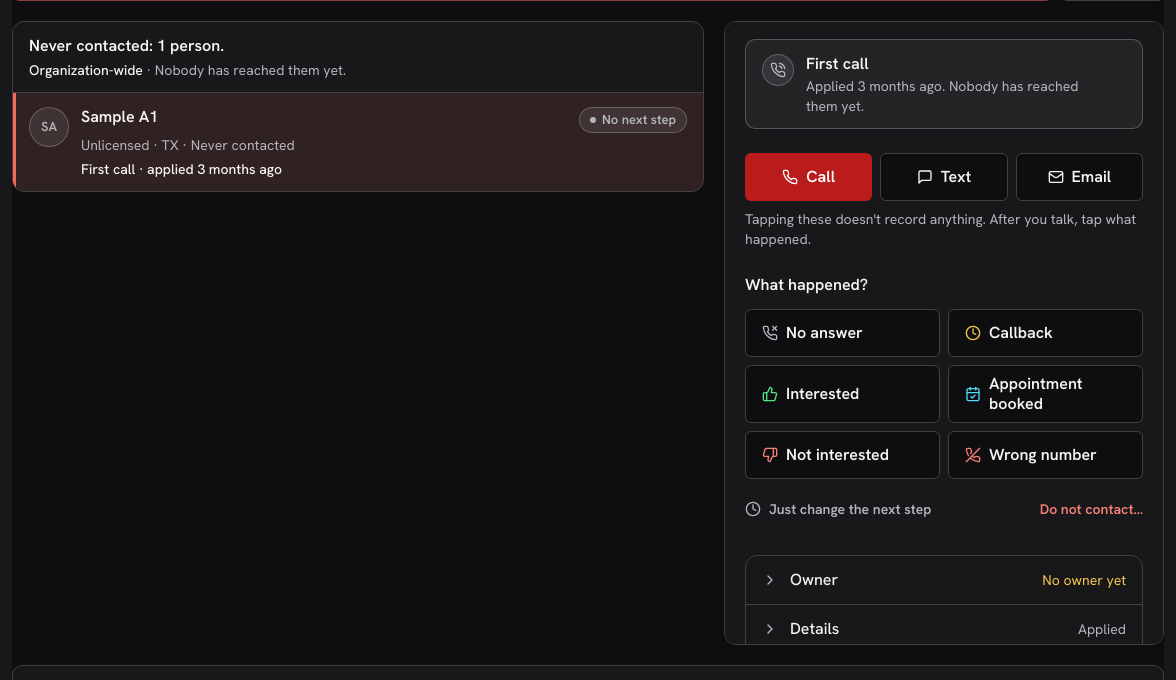
Test: RecruitingWorklist › the quick pick whose time fills the field wears the gold tint; typing a time by hand clears it
The image size is (1176, 680).
(page scrolled)
Click the button "No answer" at (842, 333), box [745,309,940,357]
(page scrolled)
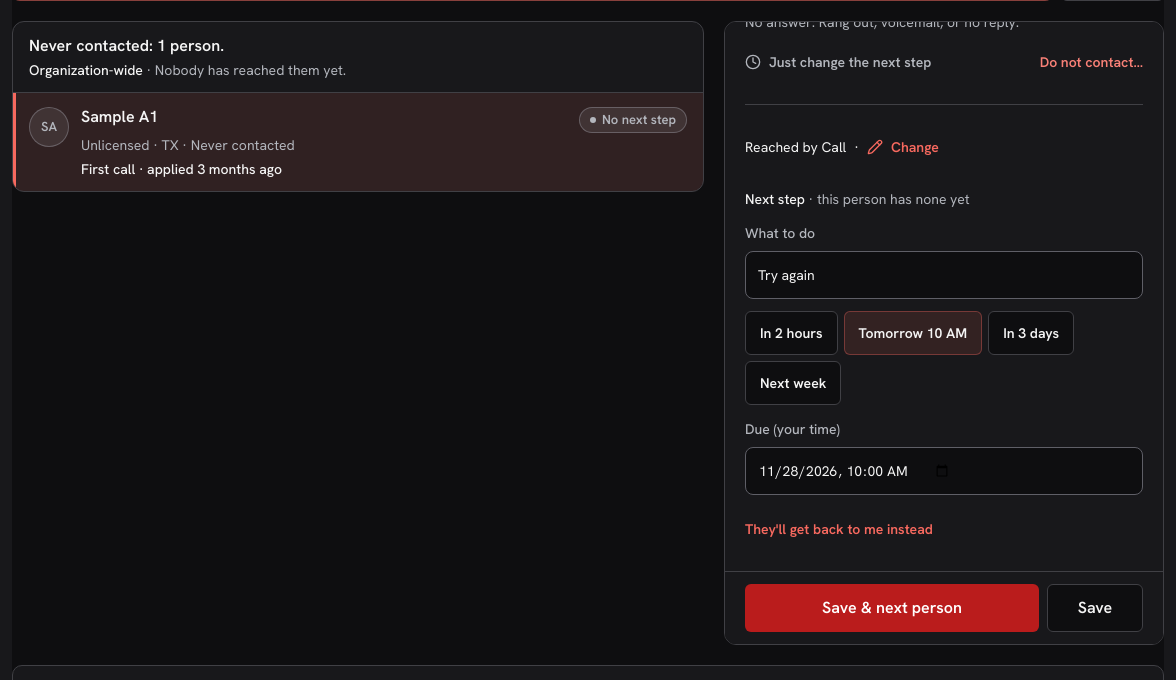
Click the button "In 3 days" at (1031, 333), box [988,311,1074,355]
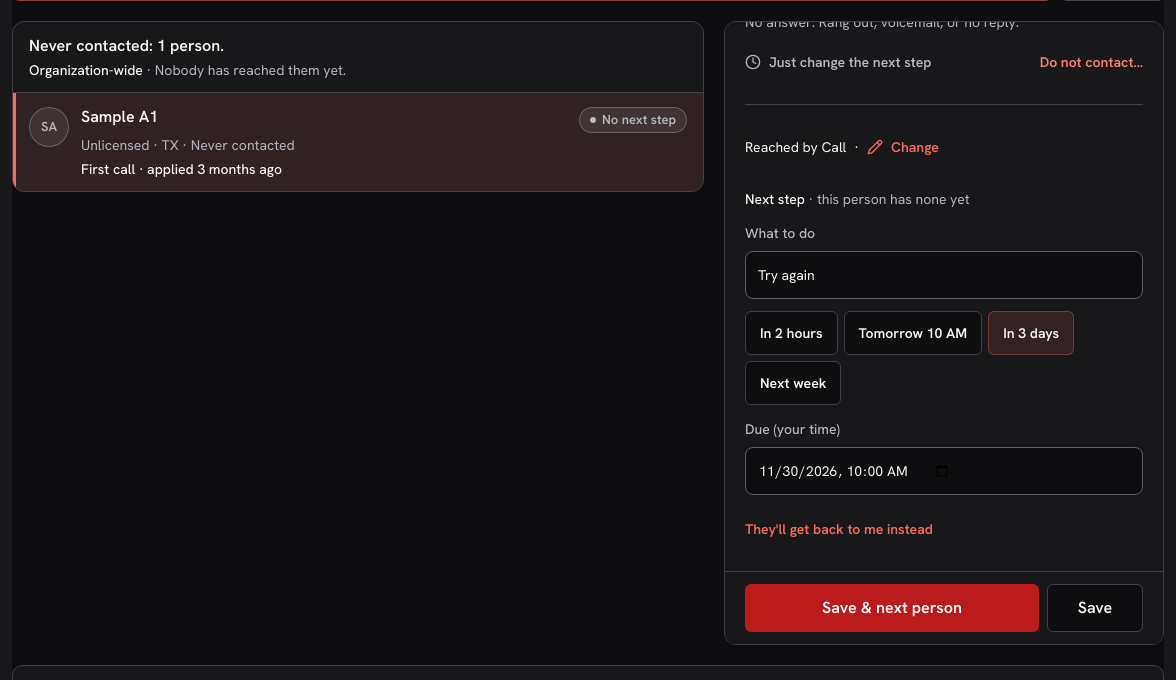
Result: the button "In 3 days" is pressed at [988,311,1074,355]
Result: the button "Tomorrow 10 AM" is not pressed at [844,311,982,355]
Replace the text in the field labelled "Due (your time)" with "2026-11-05T09:30" at (944, 471), box [745,447,1143,495]
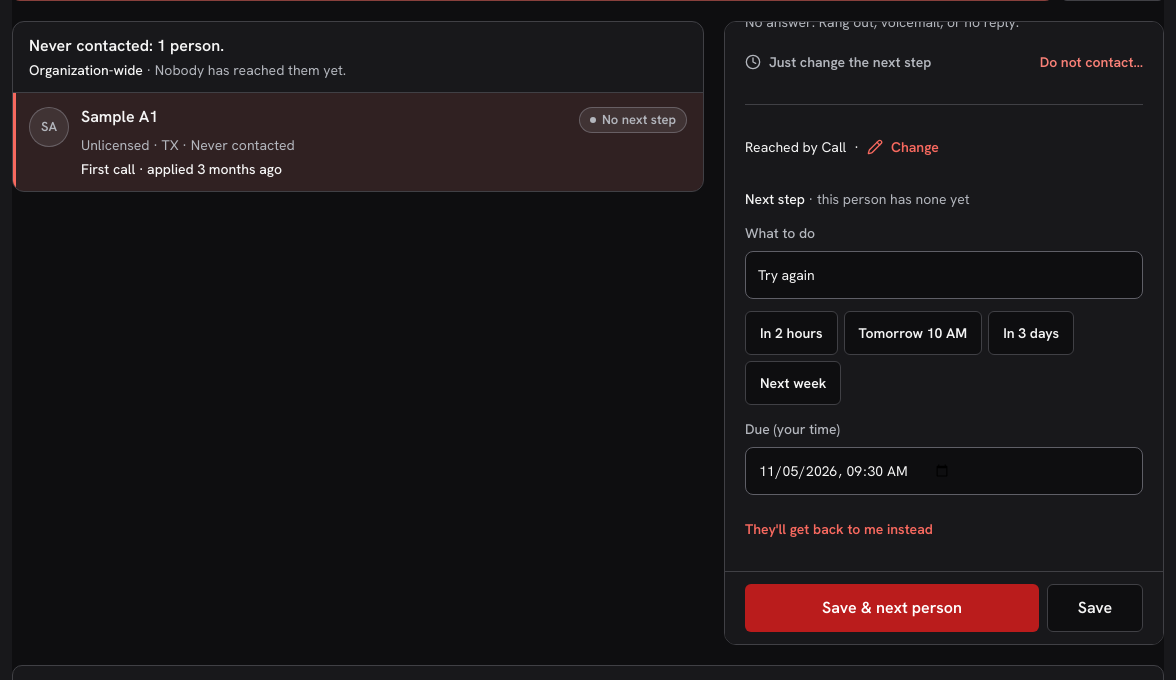
Result: the button "Tomorrow 10 AM" is not pressed at [844,311,982,355]
Result: the button "In 3 days" is not pressed at [988,311,1074,355]
